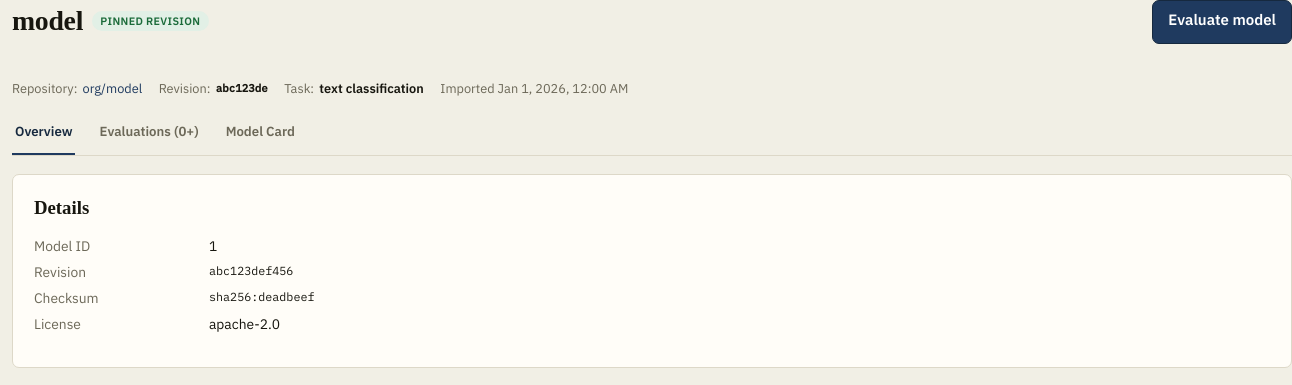
Test: an empty history is not claimed as complete when the API result was truncated
Expected: the text "Pinned revision" is shown, [92,11,209,31]
What coordinates should you click on to do the following:
click the tab "Evaluations (0+)"
I would click on:
 (149, 132)
Its box is [96,110,202,154].
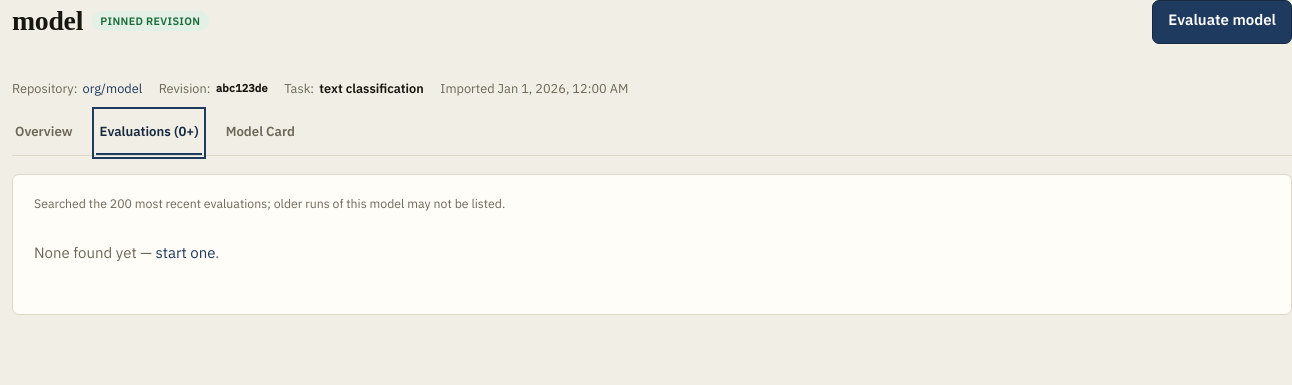
Expected: the text "Searched the 200 most recent evaluations; older runs" is shown, [34,195,505,211]
Expected: the text "None found yet — start one ." is shown, [34,243,219,262]
